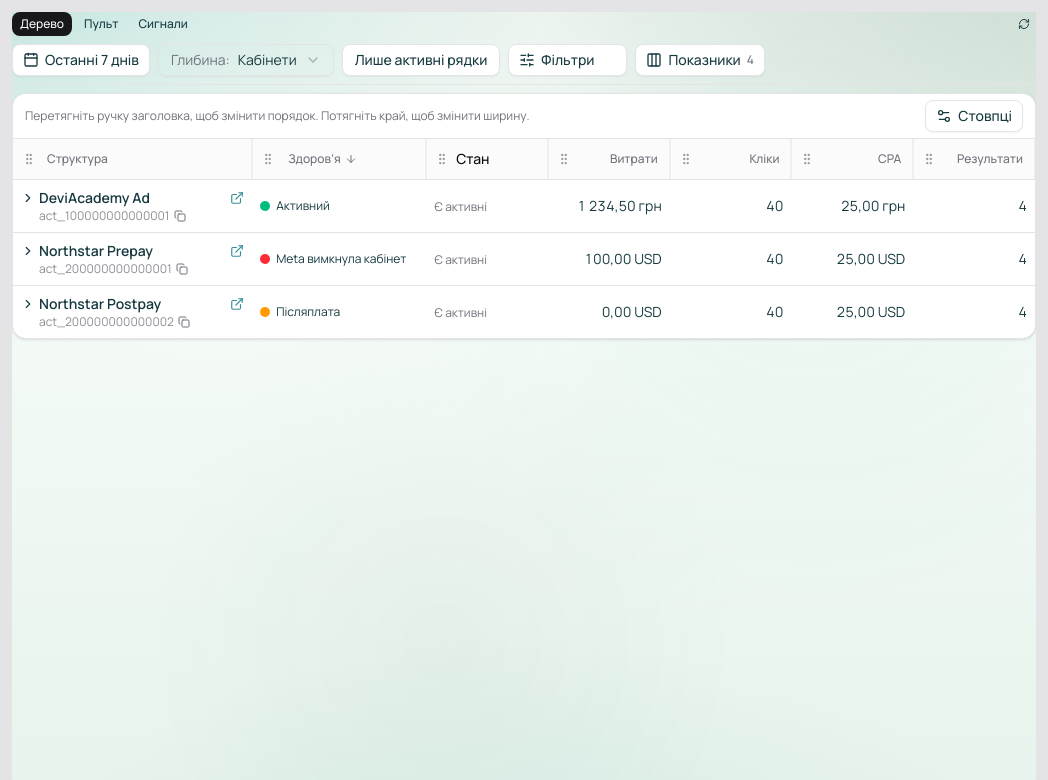
Test: Fleet Board › keeps Force Refresh disabled during the cooldown without showing an error icon
Click the button named "Оновити дані".
click(1024, 24)  # box x1=1012 y1=12 x2=1036 y2=36
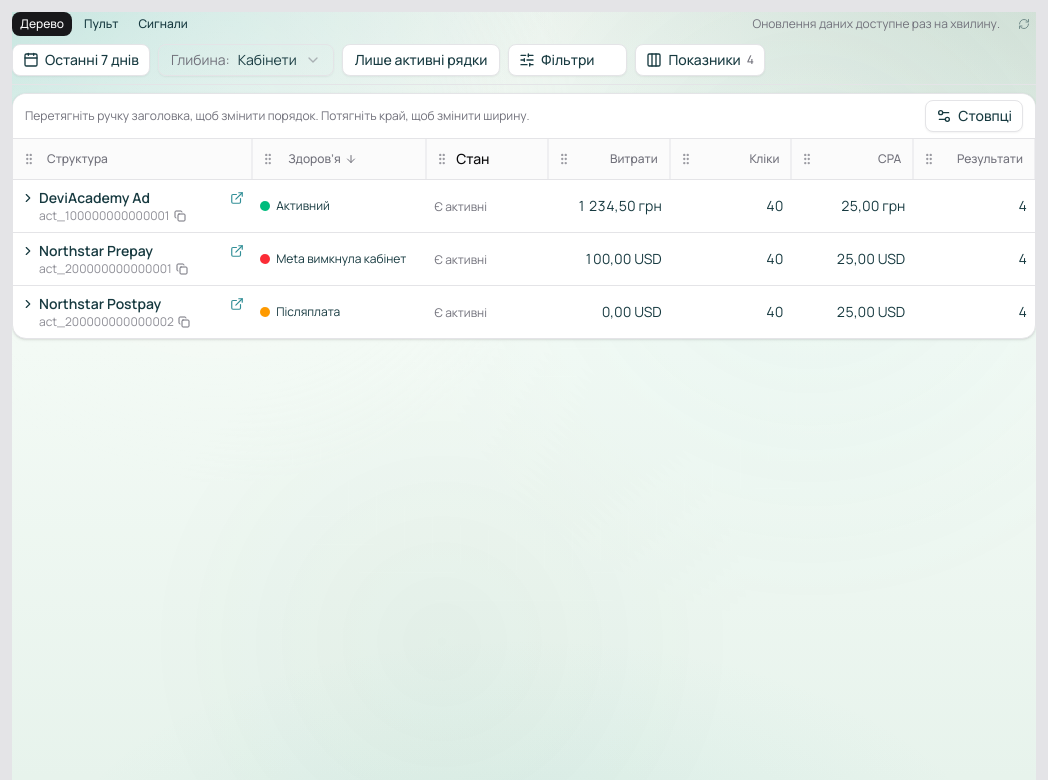
Check: the button named "Оновити дані" is disabled, box x1=1012 y1=12 x2=1036 y2=36
Check: the text "Оновлення даних доступне раз на хвилину." is shown, box x1=752 y1=16 x2=1000 y2=32
